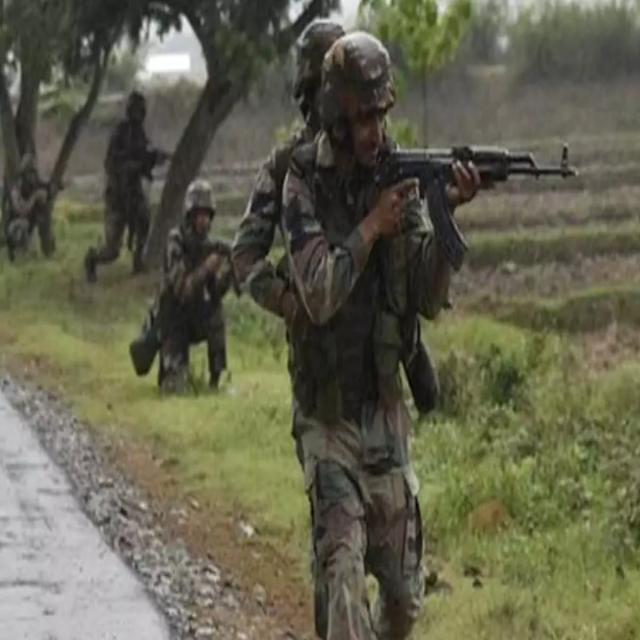Militant: (284, 18, 499, 640), (155, 162, 235, 410), (89, 76, 166, 290), (0, 134, 61, 261)
